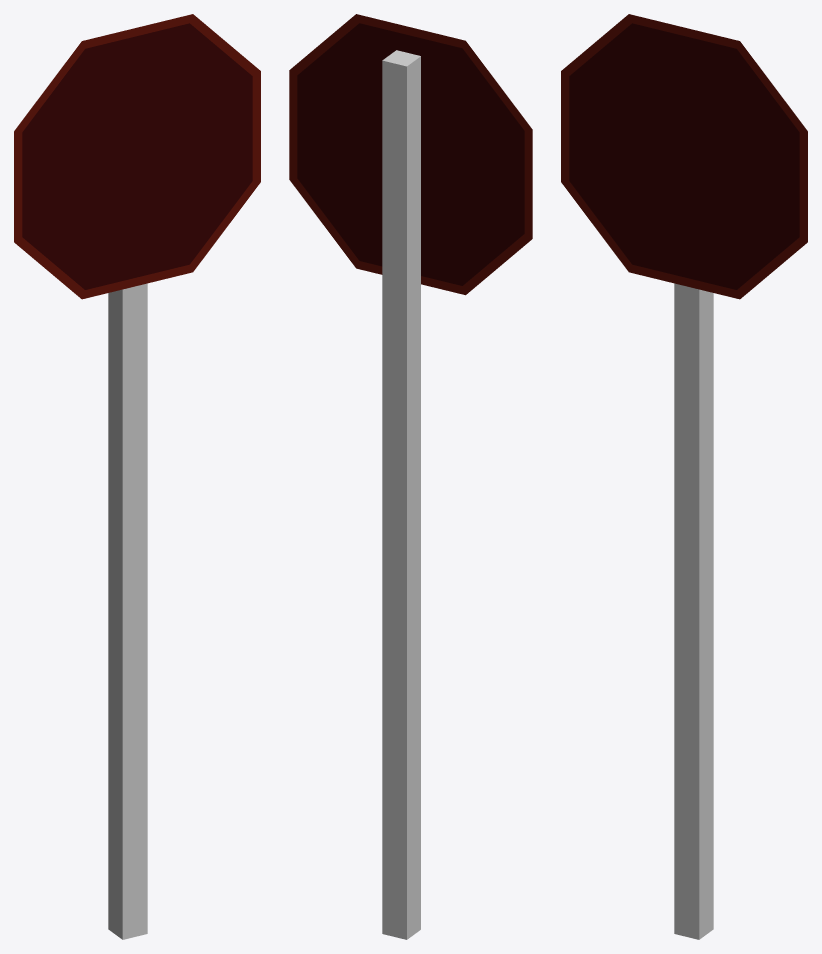
Rendered from stopsign.fbx.
The picture shows the model from 3 angles, left to right: view 1: azimuth 30°, elevation 25°; view 2: azimuth 150°, elevation 25°; view 3: azimuth 330°, elevation 25°; orthographic projection.
Visible parts, largest first — view 1: Plane; view 2: Plane; view 3: Plane.
Boxes of the visible parts, <box> form: Plane: <box>14,14,260,939</box>; Plane: <box>289,14,532,939</box>; Plane: <box>561,14,807,939</box>.
Bounding box in the file's own units: 75.35 × 266 × 8.79.
